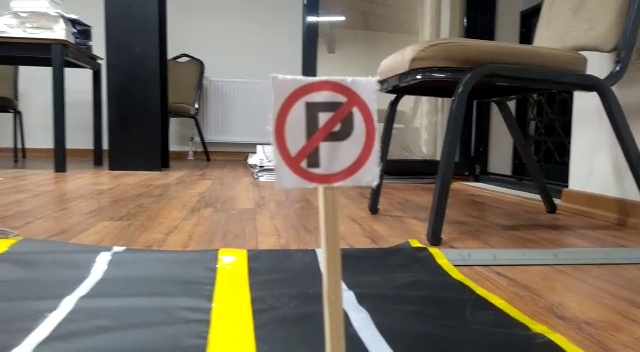park_yapilmaz: (273, 76, 375, 185)
